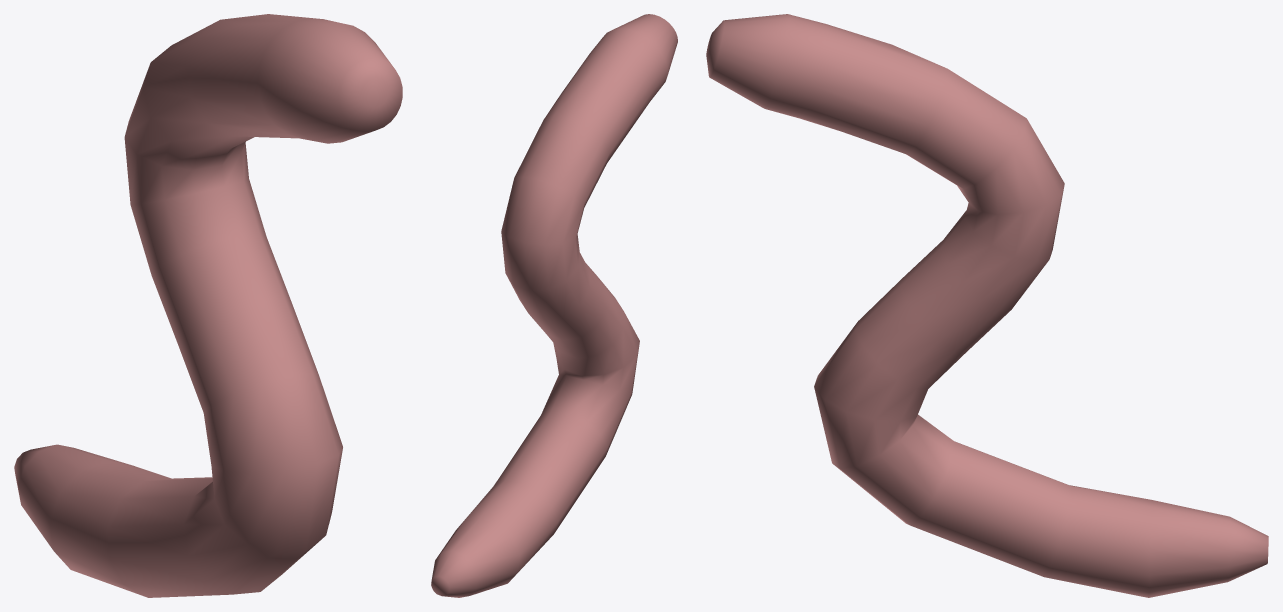
Rendered from coloured_worm_.fbx.
3 views of the same model, side by side, from view 1: azimuth 30°, elevation 25°; view 2: azimuth 150°, elevation 25°; view 3: azimuth 270°, elevation 25° (orthographic). The views are drawn at different scales.
Visible parts, largest first — view 1: NurbsPath; view 2: NurbsPath; view 3: NurbsPath.
Boxes of the visible parts, x1,y1,x2,y2 form: NurbsPath: [14, 14, 402, 597]; NurbsPath: [431, 14, 677, 597]; NurbsPath: [706, 14, 1268, 597].
Bounding box in the file's own units: 94.6 × 566 × 502.
